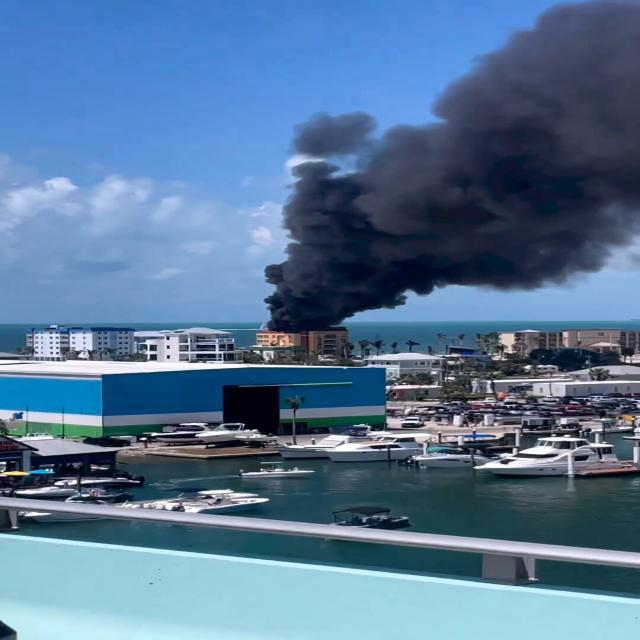Smoke: (426, 146, 580, 280), (278, 204, 405, 306), (460, 63, 614, 140)
